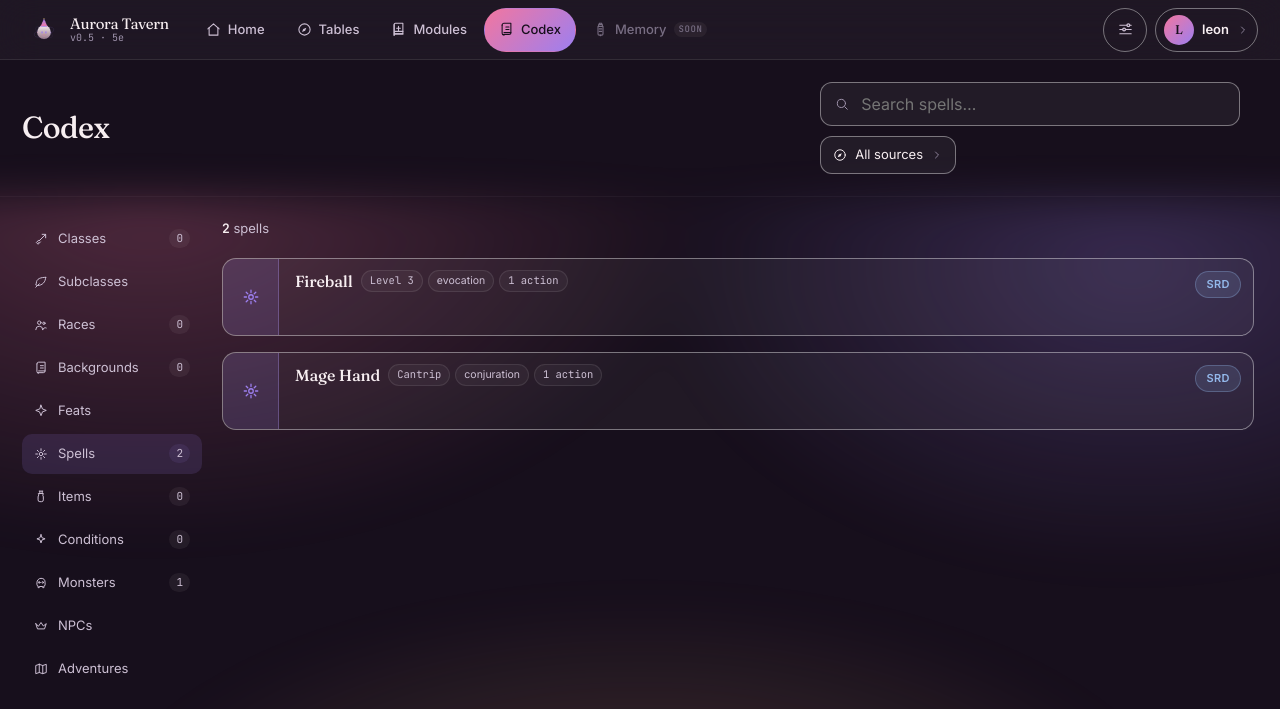
search filters the loaded list by name (client-side)
The image size is (1280, 709).
Expected: the option "Fireball Level 3 evocation 1 action SRD" is shown, x1=222 y1=258 x2=1254 y2=336
Type "mage" into the search field labelled "Search spells…" at (1042, 104), box x1=859 y1=91 x2=1225 y2=117
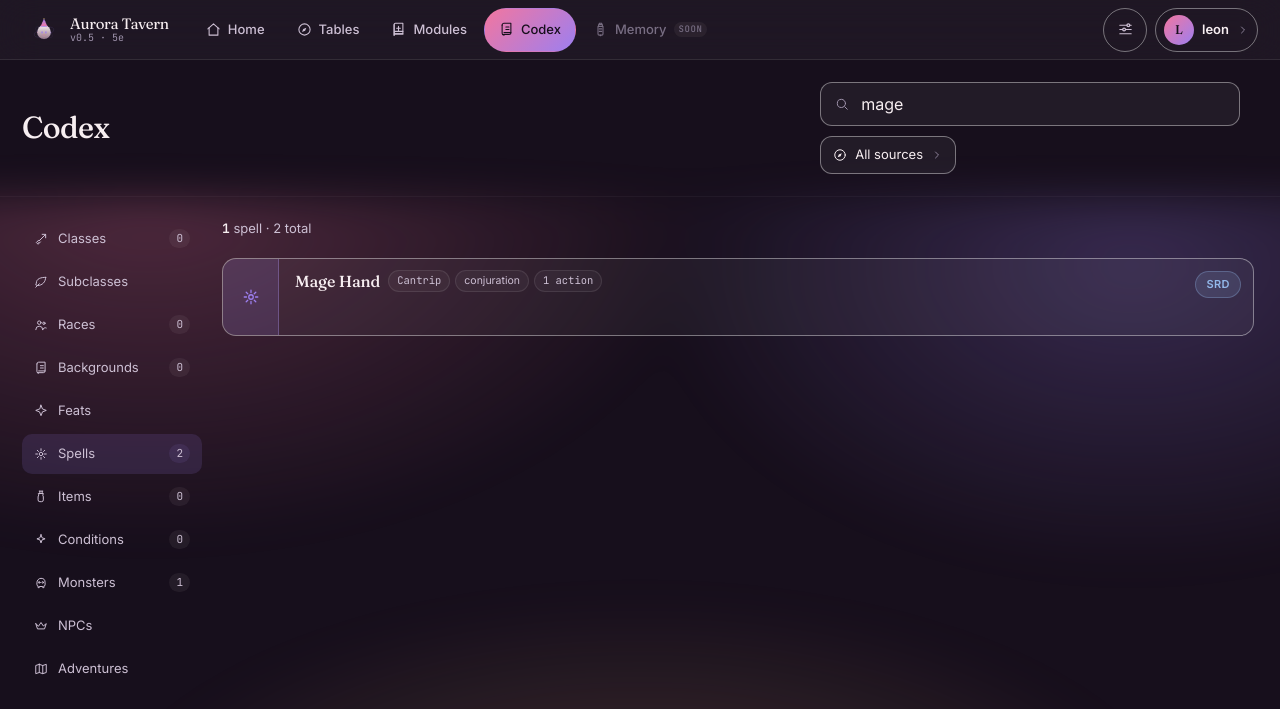
Expected: the option "Mage Hand Cantrip conjuration 1 action SRD" is shown, x1=222 y1=258 x2=1254 y2=336
Result: the option "Fireball" is gone
